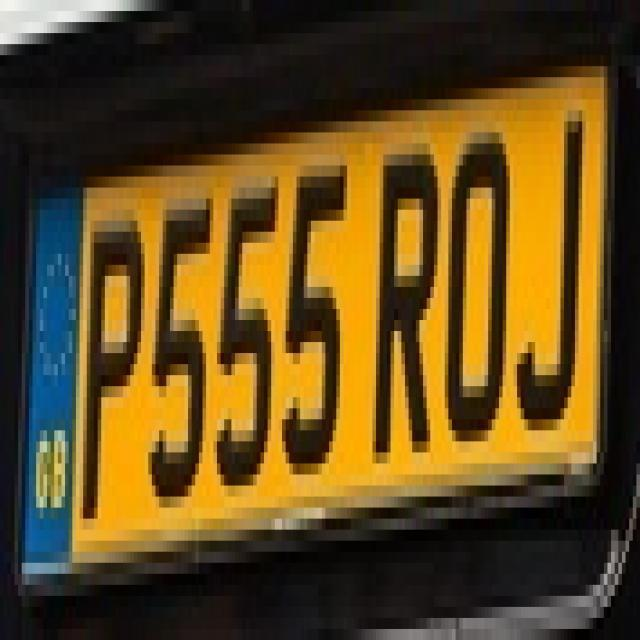LicensePlate: (10, 30, 618, 570)
